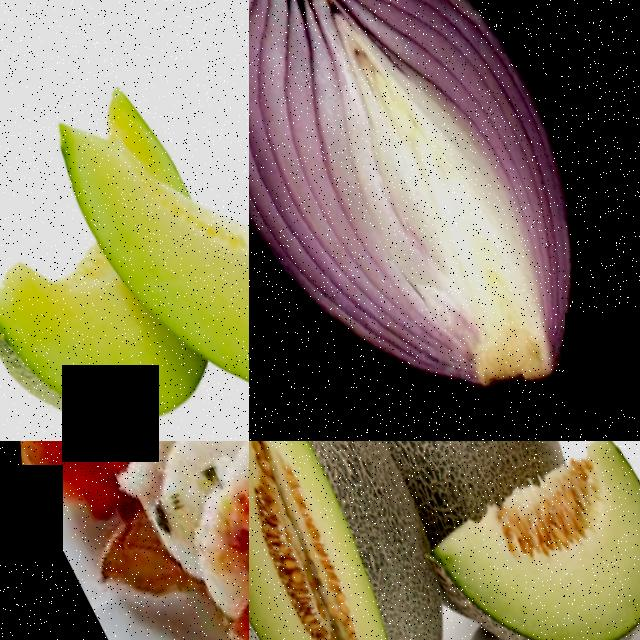melon: (120, 77, 249, 441), (249, 441, 482, 640), (413, 441, 640, 640), (0, 202, 183, 441), (293, 441, 574, 529)
onion: (249, 0, 640, 441)
peanuts: (72, 441, 249, 598)
